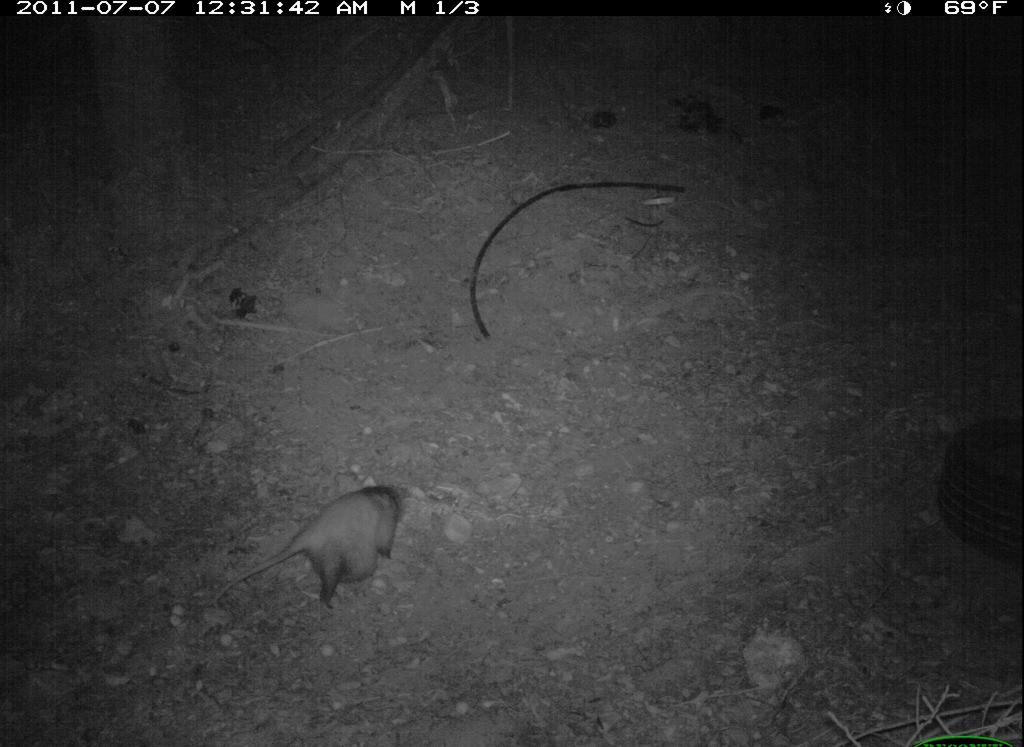opossum: (213, 477, 418, 623)
